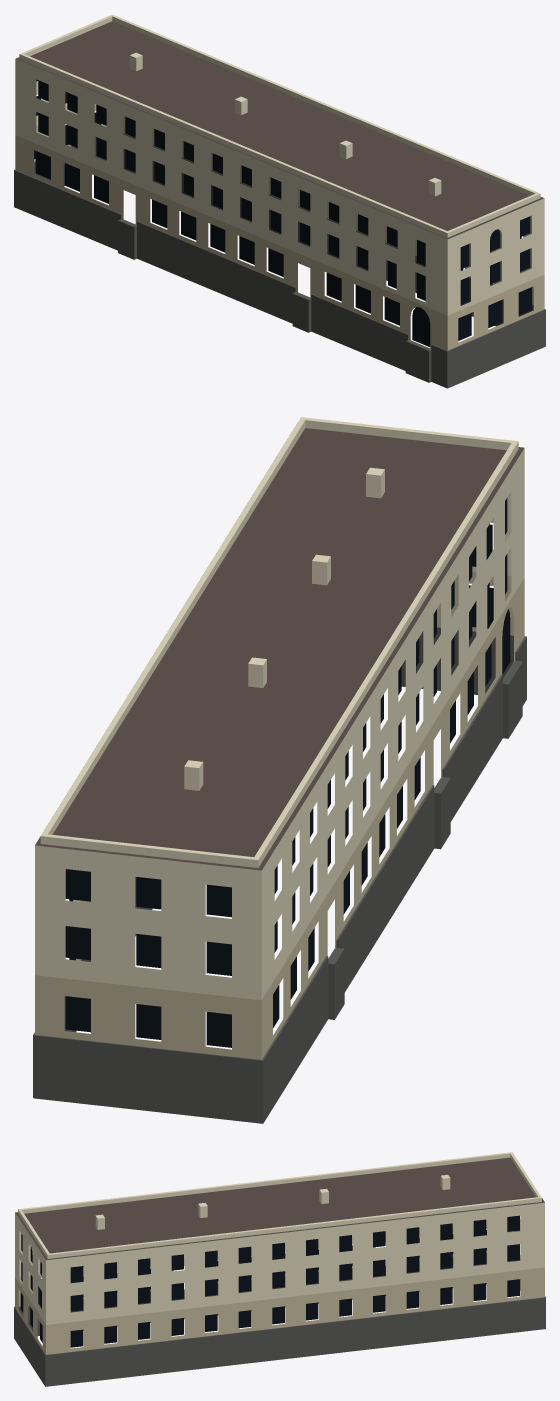
3 views of the same model, one above another, from view 1: azimuth 30°, elevation 25°; view 2: azimuth 150°, elevation 25°; view 3: azimuth 270°, elevation 25° (orthographic). The views are drawn at different scales.
Parts seen in each view (by area): view 1: bm19_wall, bm19_roof, bm19_stone, bm19_wall2, bm19_glass; view 2: bm19_roof, bm19_wall, bm19_stone, bm19_wall2, bm19_glass; view 3: bm19_wall, bm19_roof, bm19_stone, bm19_wall2, bm19_glass.
Boxes of the visible parts, left/top/right/bottom form: bm19_wall: left=15, top=14, right=544, bottom=315; bm19_roof: left=16, top=21, right=544, bottom=239; bm19_stone: left=14, top=133, right=545, bottom=388; bm19_wall2: left=15, top=104, right=544, bottom=350; bm19_glass: left=34, top=79, right=531, bottom=346; bm19_roof: left=35, top=428, right=524, bottom=870; bm19_wall: left=35, top=417, right=524, bottom=1000; bm19_stone: left=33, top=627, right=526, bottom=1123; bm19_wall2: left=35, top=571, right=524, bottom=1059; bm19_glass: left=65, top=498, right=510, bottom=1047; bm19_wall: left=15, top=1152, right=544, bottom=1324; bm19_roof: left=15, top=1157, right=544, bottom=1260; bm19_stone: left=14, top=1252, right=545, bottom=1386; bm19_wall2: left=15, top=1223, right=544, bottom=1354; bm19_glass: left=20, top=1215, right=519, bottom=1347.
Bounding box in the file's own units: 26.02 × 15.7 × 55.01.
